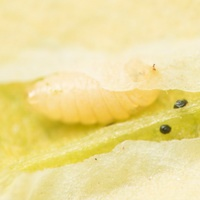insect: (174, 99, 187, 107), (160, 125, 170, 133)
